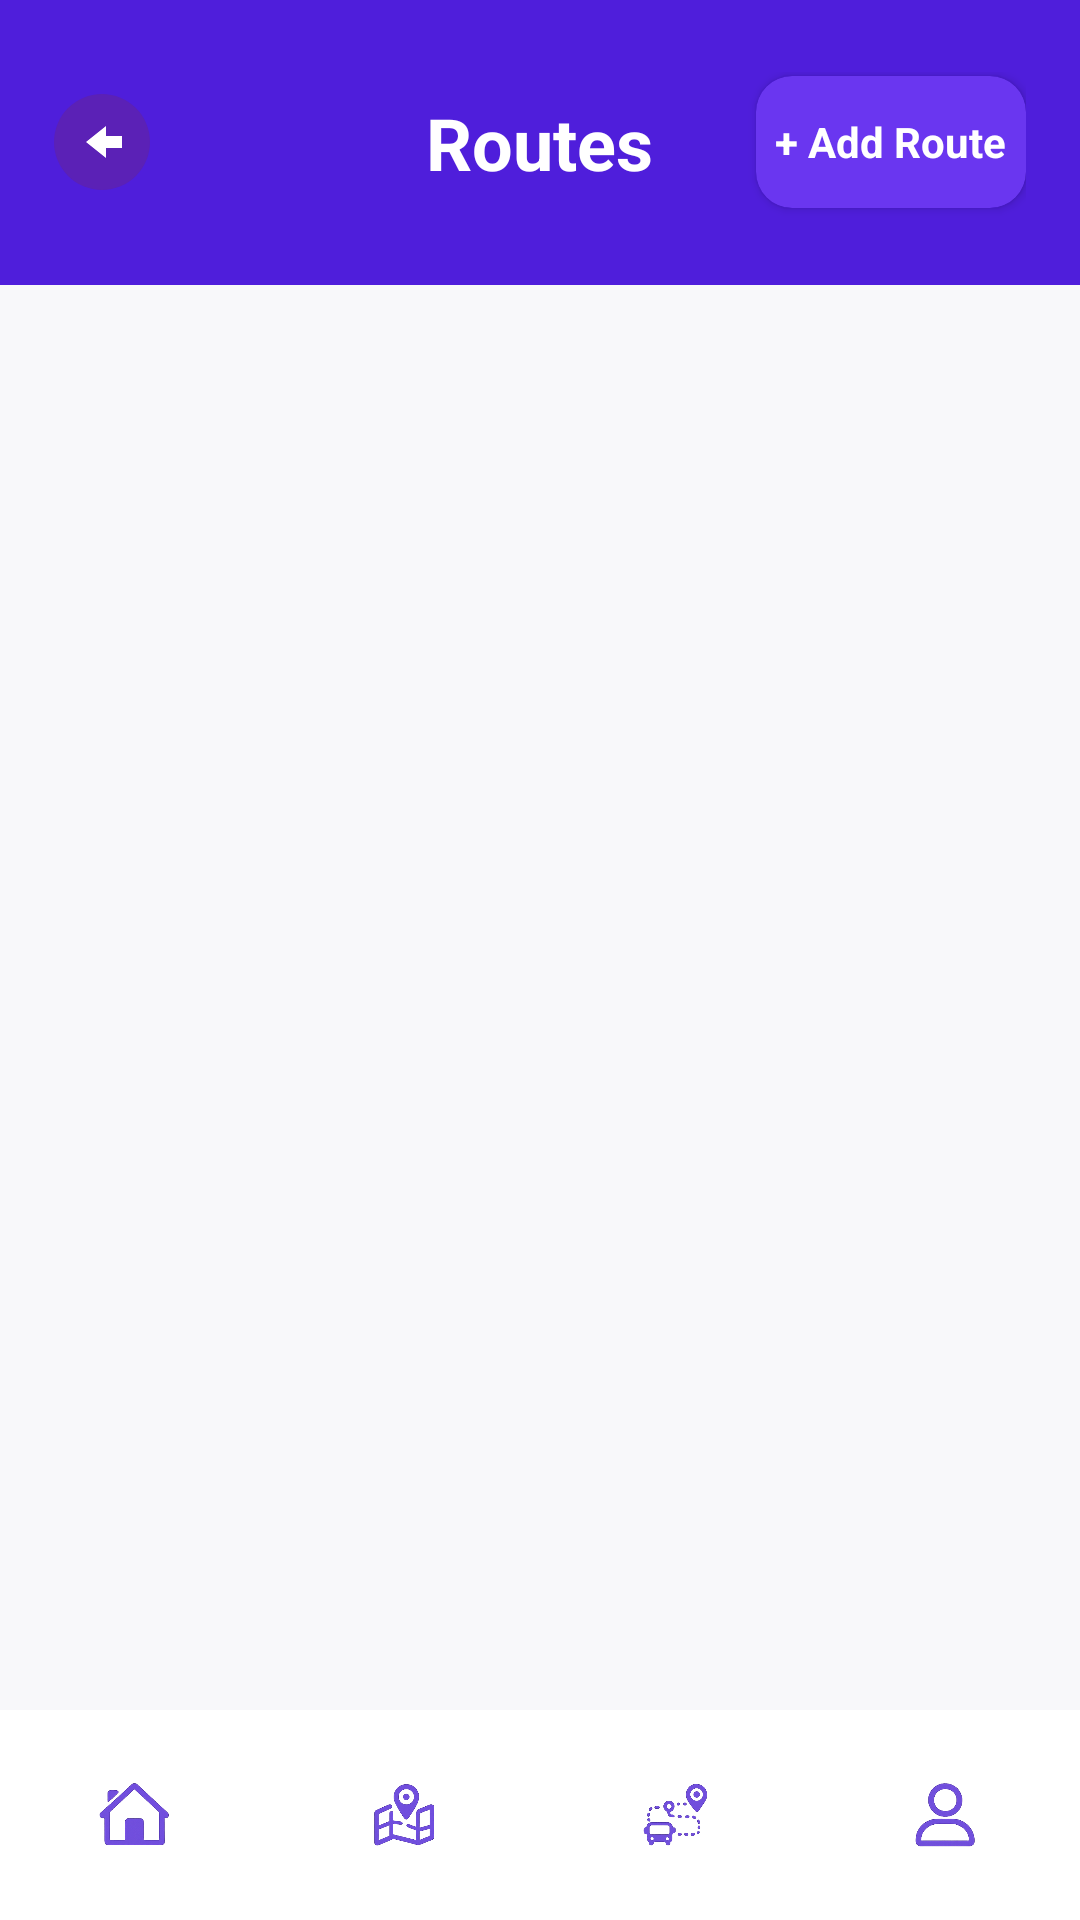

Where icons sit on this 1080px×1920px app screen, as (x1, y1, x2, y2):
back: (54, 94, 150, 190)
home: (99, 1783, 169, 1845)
map: (374, 1784, 434, 1846)
profile: (915, 1783, 975, 1847)
routes: (643, 1784, 707, 1846)
